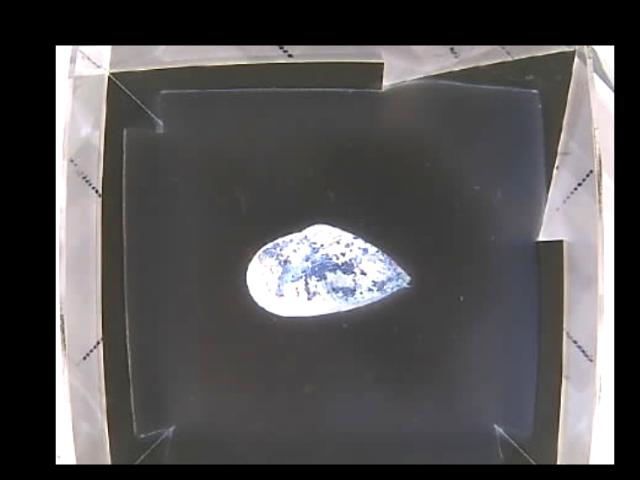Shell: (245, 222, 411, 316)
